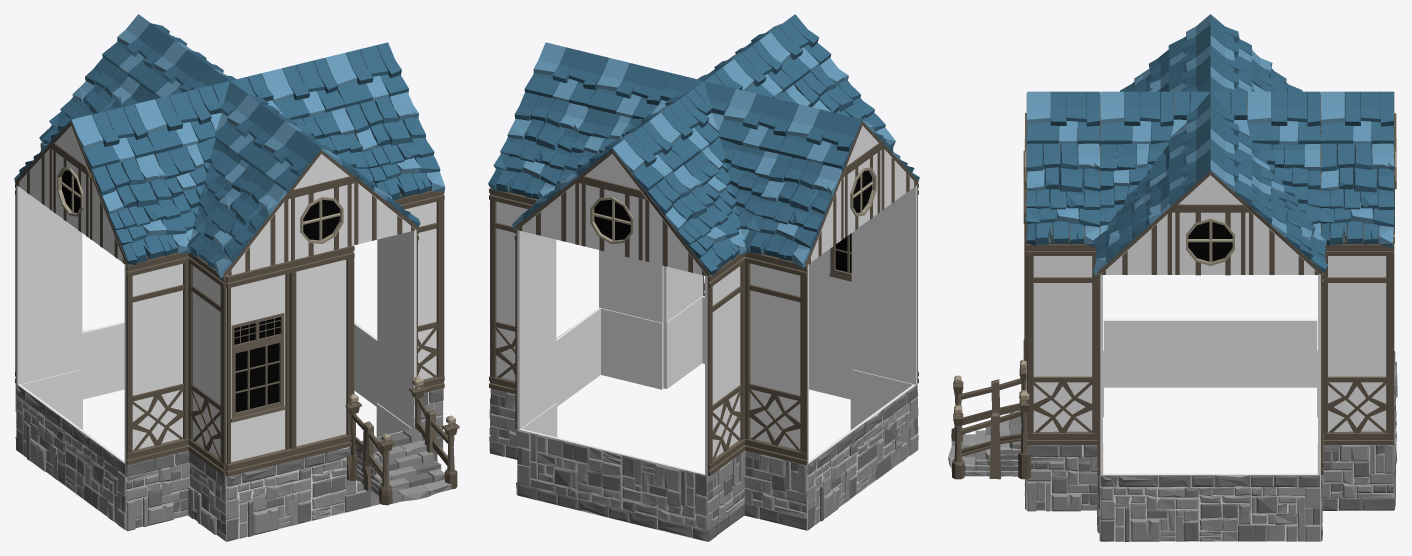
Rendered from House_02_parts.fbx.
3 renders of one model, left to right at view 1: azimuth 30°, elevation 25°; view 2: azimuth 150°, elevation 25°; view 3: azimuth 270°, elevation 25°, orthographic.
Visible parts, largest first — view 1: WALL_04_3, WALL_03_2, WINDOW_04_2, WALL_04_4, FOUNDATION_02_10, STAIRS_06_5, WALL_04_2, FOUNDATION_02_11, WALL_04_9, ROOF_base_3, ROOF_base_5, WALL_04_8 (+31 smaller); view 2: FOUNDATION_02_12, WALL_04_4, WALL_04_3, WALL_04_5, FOUNDATION_02_11, WALL_04_6, ROOF_base_9, ROOF_base_7, WALL_04_7, ROOF_base_8, ROOF_inner_corner_5, FOUNDATION_03_16 (+34 smaller); view 3: FOUNDATION_02_13, FOUNDATION_02_11, WALL_04_6, WALL_04_9, ROOF_base_4, ROOF_base_6, STAIRS_06_5, FOUNDATION_03_14, ROOF_Window_round_2, FOUNDATION_03_17, ROOF_inner_corner_4, ROOF_inner_corner_3 (+24 smaller).
Boxes of the visible parts, left/top/right/bottom form: WALL_04_3: left=124, top=252, right=189, bottom=465; WALL_03_2: left=289, top=245, right=354, bottom=460; WINDOW_04_2: left=226, top=261, right=291, bottom=476; WALL_04_4: left=15, top=183, right=81, bottom=384; FOUNDATION_02_10: left=226, top=431, right=402, bottom=541; STAIRS_06_5: left=345, top=376, right=459, bottom=505; WALL_04_2: left=188, top=253, right=226, bottom=475; FOUNDATION_02_11: left=16, top=384, right=126, bottom=530; WALL_04_9: left=377, top=228, right=418, bottom=428; ROOF_base_3: left=89, top=154, right=189, bottom=264; ROOF_base_5: left=345, top=92, right=445, bottom=200; WALL_04_8: left=394, top=190, right=444, bottom=392; FOUNDATION_02_12: left=517, top=428, right=707, bottom=541; WALL_04_4: left=744, top=252, right=808, bottom=465; WALL_04_3: left=852, top=183, right=918, bottom=384; WALL_04_5: left=705, top=254, right=745, bottom=475; FOUNDATION_02_11: left=807, top=384, right=918, bottom=530; WALL_04_6: left=514, top=229, right=556, bottom=429; ROOF_base_9: left=744, top=154, right=843, bottom=268; ROOF_base_7: left=488, top=92, right=588, bottom=199; WALL_04_7: left=489, top=188, right=538, bottom=393; ROOF_base_8: left=644, top=165, right=747, bottom=276; ROOF_inner_corner_5: left=684, top=137, right=778, bottom=240; FOUNDATION_03_16: left=599, top=307, right=663, bottom=389; FOUNDATION_02_13: left=1100, top=473, right=1320, bottom=541; FOUNDATION_02_11: left=1103, top=319, right=1317, bottom=387; WALL_04_6: left=1323, top=244, right=1394, bottom=444; WALL_04_9: left=1026, top=244, right=1097, bottom=444; ROOF_base_4: left=1026, top=142, right=1100, bottom=247; ROOF_base_6: left=1320, top=143, right=1394, bottom=247; STAIRS_06_5: left=948, top=359, right=1030, bottom=479; FOUNDATION_03_14: left=1322, top=445, right=1394, bottom=510; ROOF_Window_round_2: left=1173, top=212, right=1247, bottom=275; FOUNDATION_03_17: left=1026, top=445, right=1098, bottom=511; ROOF_inner_corner_4: left=1251, top=141, right=1320, bottom=234; ROOF_inner_corner_3: left=1099, top=141, right=1169, bottom=234.
Size of the model in its own units: 509 by 559 by 611.
